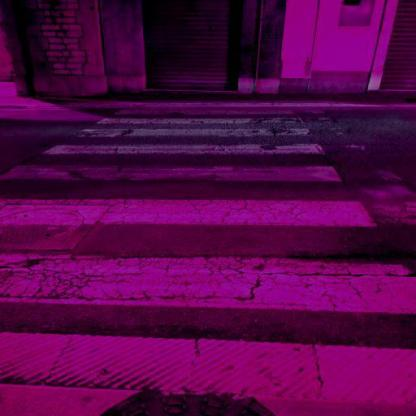crosswalk: (1, 191, 415, 319), (34, 126, 332, 158)
